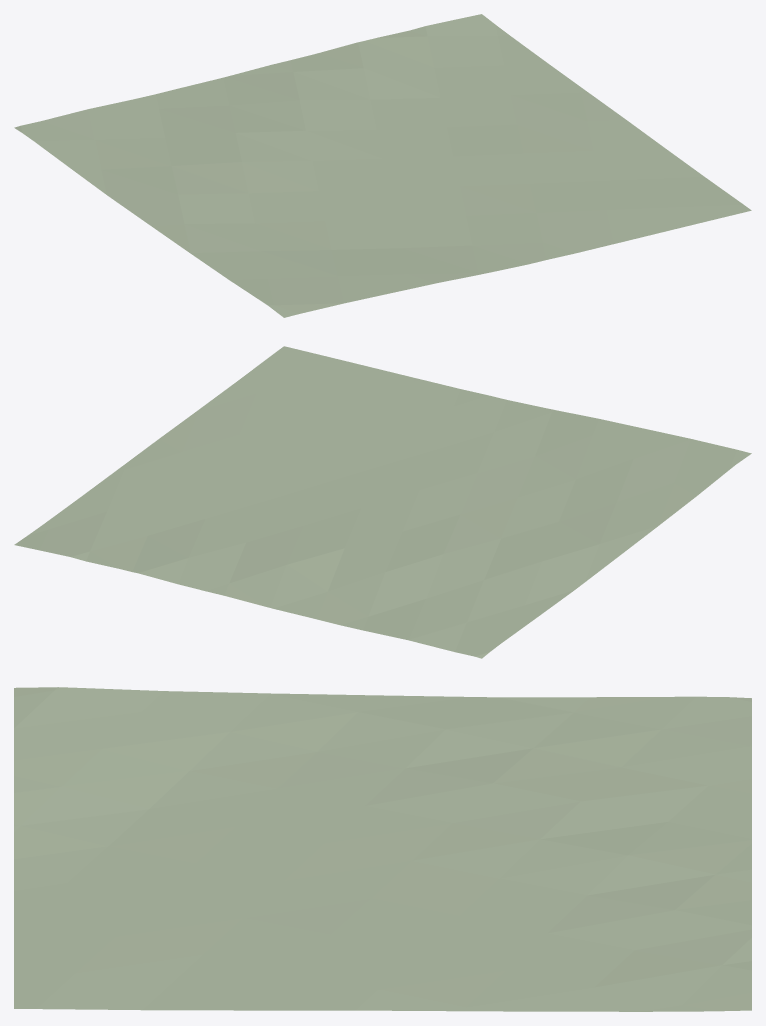
The model's file is SM_MPRR_Terrain_1_-3.fbx.
3 renders of one model, top to bottom at view 1: azimuth 30°, elevation 25°; view 2: azimuth 150°, elevation 25°; view 3: azimuth 270°, elevation 25°, orthographic. The views are drawn at different scales.
Visible parts, largest first — view 1: SM_MPRR_Terrain_1_-3; view 2: SM_MPRR_Terrain_1_-3; view 3: SM_MPRR_Terrain_1_-3.
Boxes of the visible parts, x1,y1,x2,y2 form: SM_MPRR_Terrain_1_-3: (14,14,751,317); SM_MPRR_Terrain_1_-3: (14,346,751,658); SM_MPRR_Terrain_1_-3: (14,687,751,1011).
Size of the model in its own units: 15000 by 15000 by 287.
